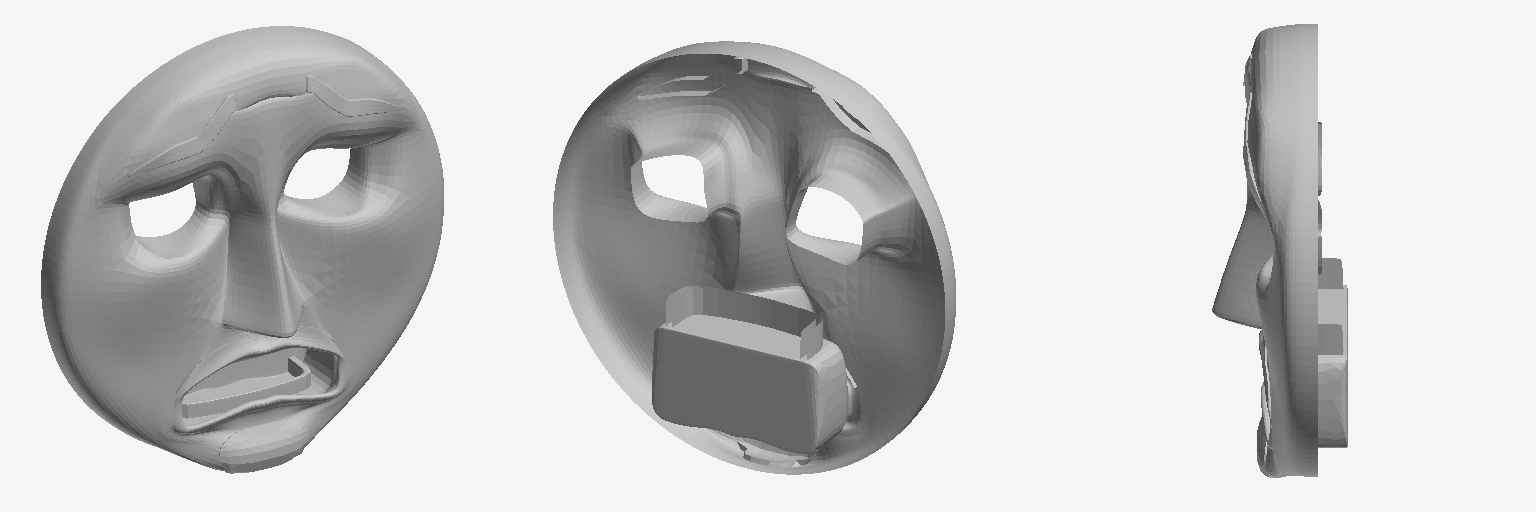
The model's file is Shocked.obj.
3 renders of one model, left to right at view 1: azimuth 30°, elevation 25°; view 2: azimuth 150°, elevation 25°; view 3: azimuth 270°, elevation 25°, orthographic.
Parts seen in each view (by area): view 1: Circle.073_Circle.091; view 2: Circle.073_Circle.091; view 3: Circle.073_Circle.091.
Part boxes in pixels (bbox=[...]): Circle.073_Circle.091: bbox=[41, 26, 443, 473]; Circle.073_Circle.091: bbox=[553, 41, 955, 474]; Circle.073_Circle.091: bbox=[1212, 24, 1347, 477].
Bounding box in the file's own units: 50.64 × 51.96 × 15.12.